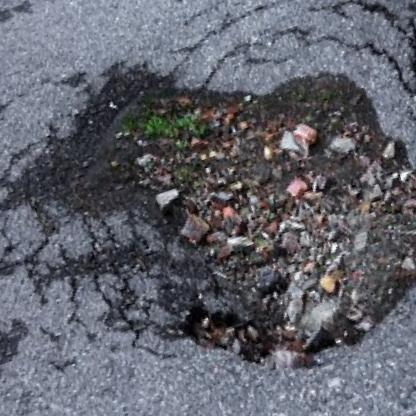pothole: (38, 0, 416, 388)
